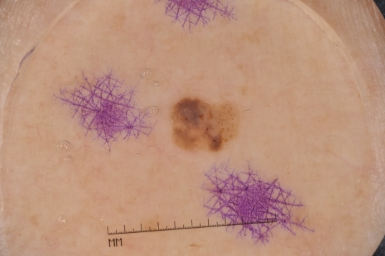seborrheic keratosis: (162, 81, 257, 163)
